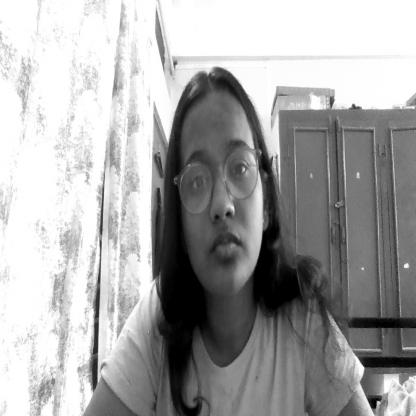Normal: (175, 69, 268, 294)
